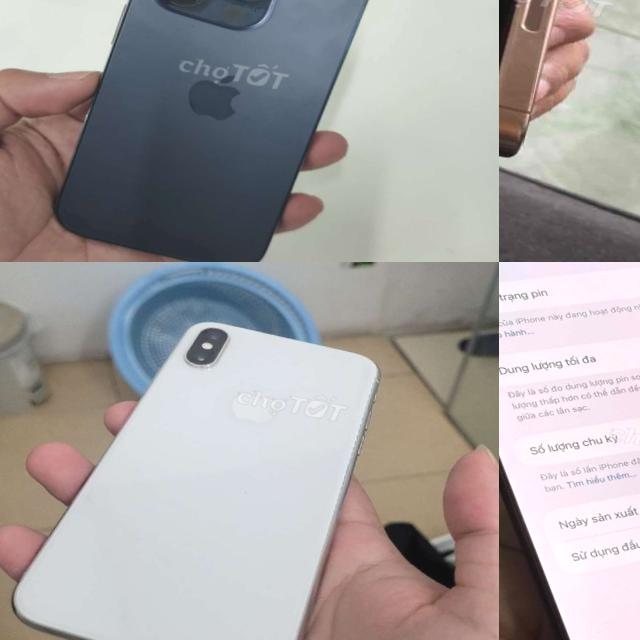gen_14: (40, 0, 384, 262)
gen_15: (499, 262, 640, 640)
gen_16: (499, 0, 640, 171)
gen_x_xs: (12, 322, 379, 640)
